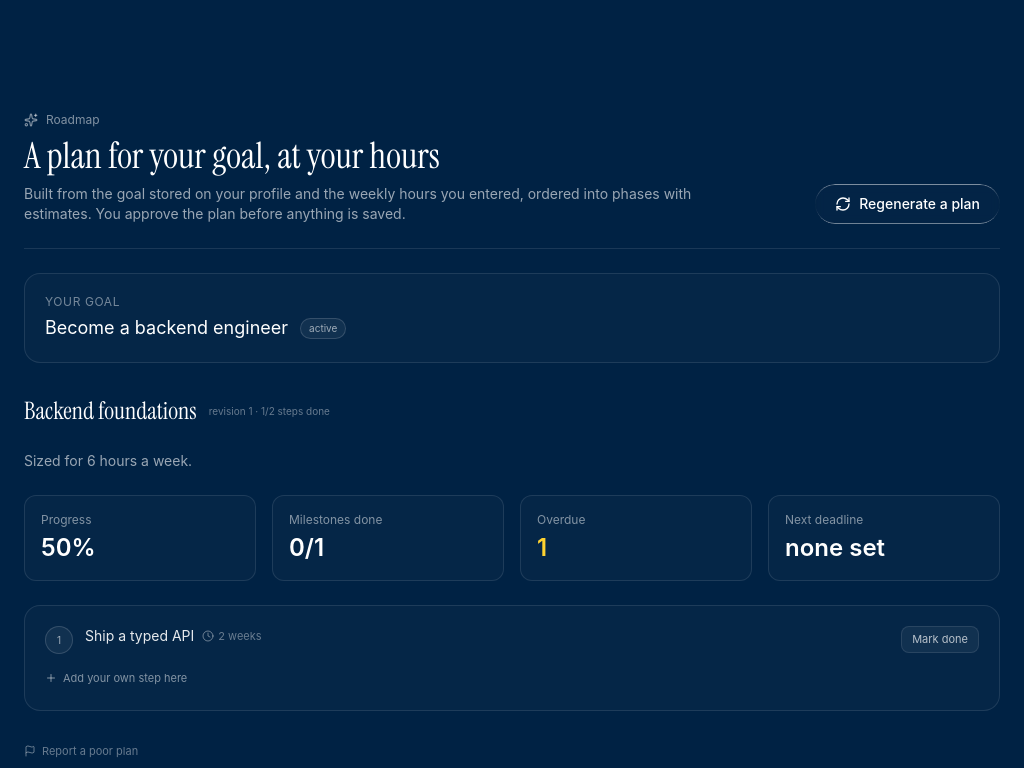
Test: RoadmapWorkspace › counts progress from stored steps and marks a step done through the API
expect the text "50%" is shown: met, box [41,533,96,562]
expect the text "revision 1 · 1/2 steps done" is shown: met, box [209,404,330,418]
Step 1. Click the button "Mark done" → x=940, y=639, box [901,626,979,652]
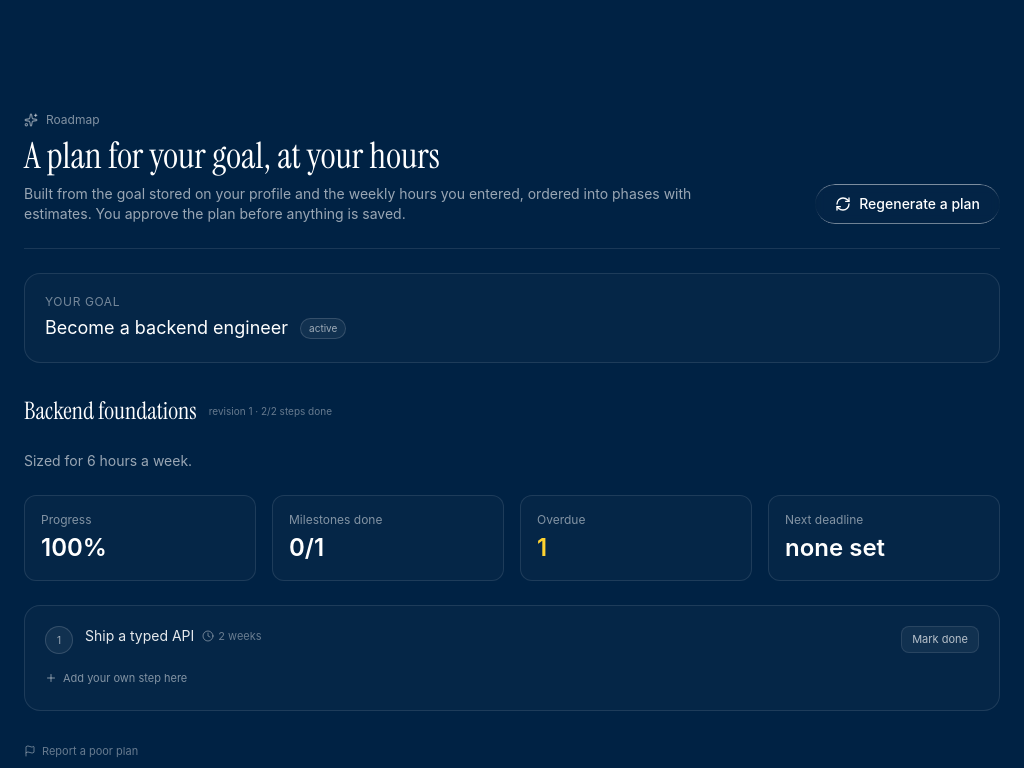
expect the text "100%" is shown: met, box [41,533,107,562]
